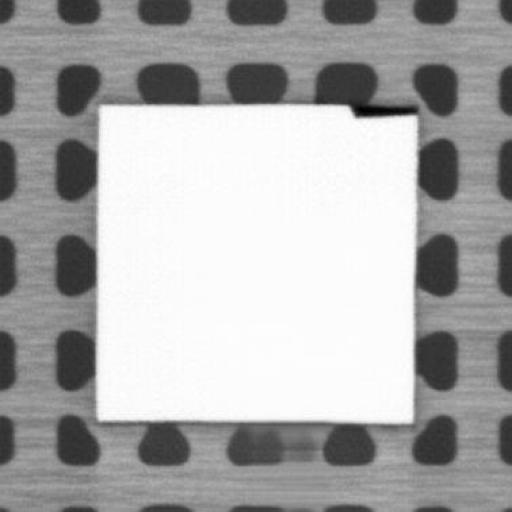DIE_BROKEN: (346, 100, 418, 117)
